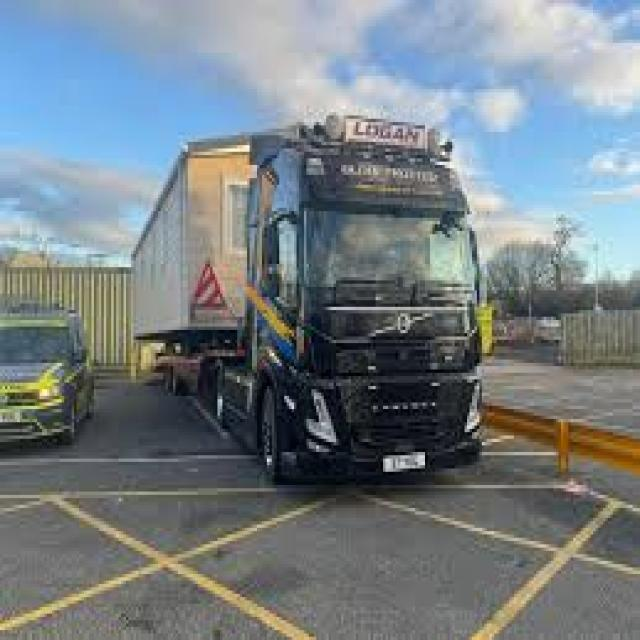covered: (126, 109, 487, 485)
